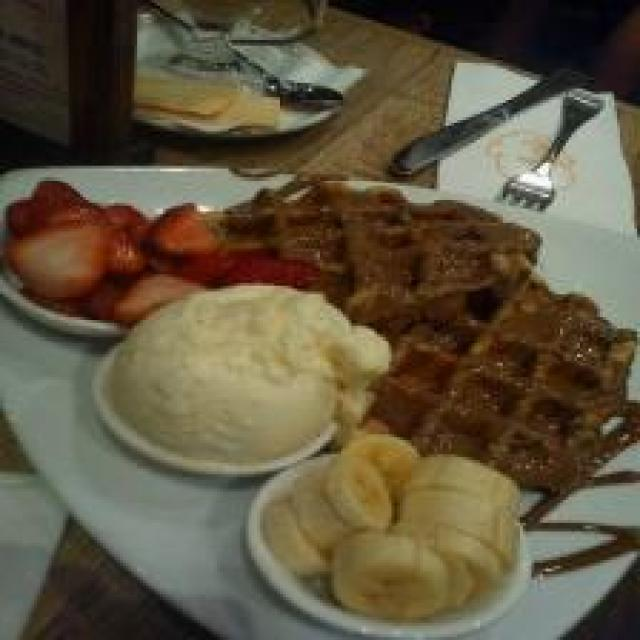Waffles: (196, 165, 638, 484)
